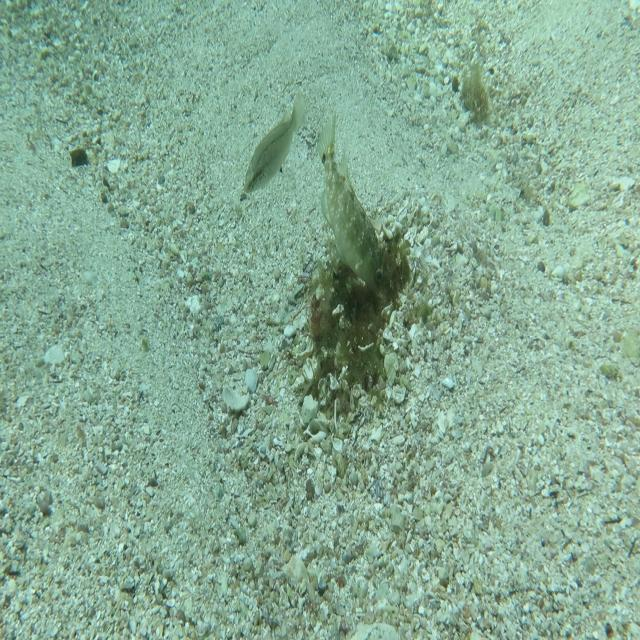NIP_CORE: (314, 111, 388, 299)
female: (242, 86, 309, 196)
nest: (292, 206, 424, 426)
vegetation: (458, 54, 493, 130), (70, 145, 90, 168)
